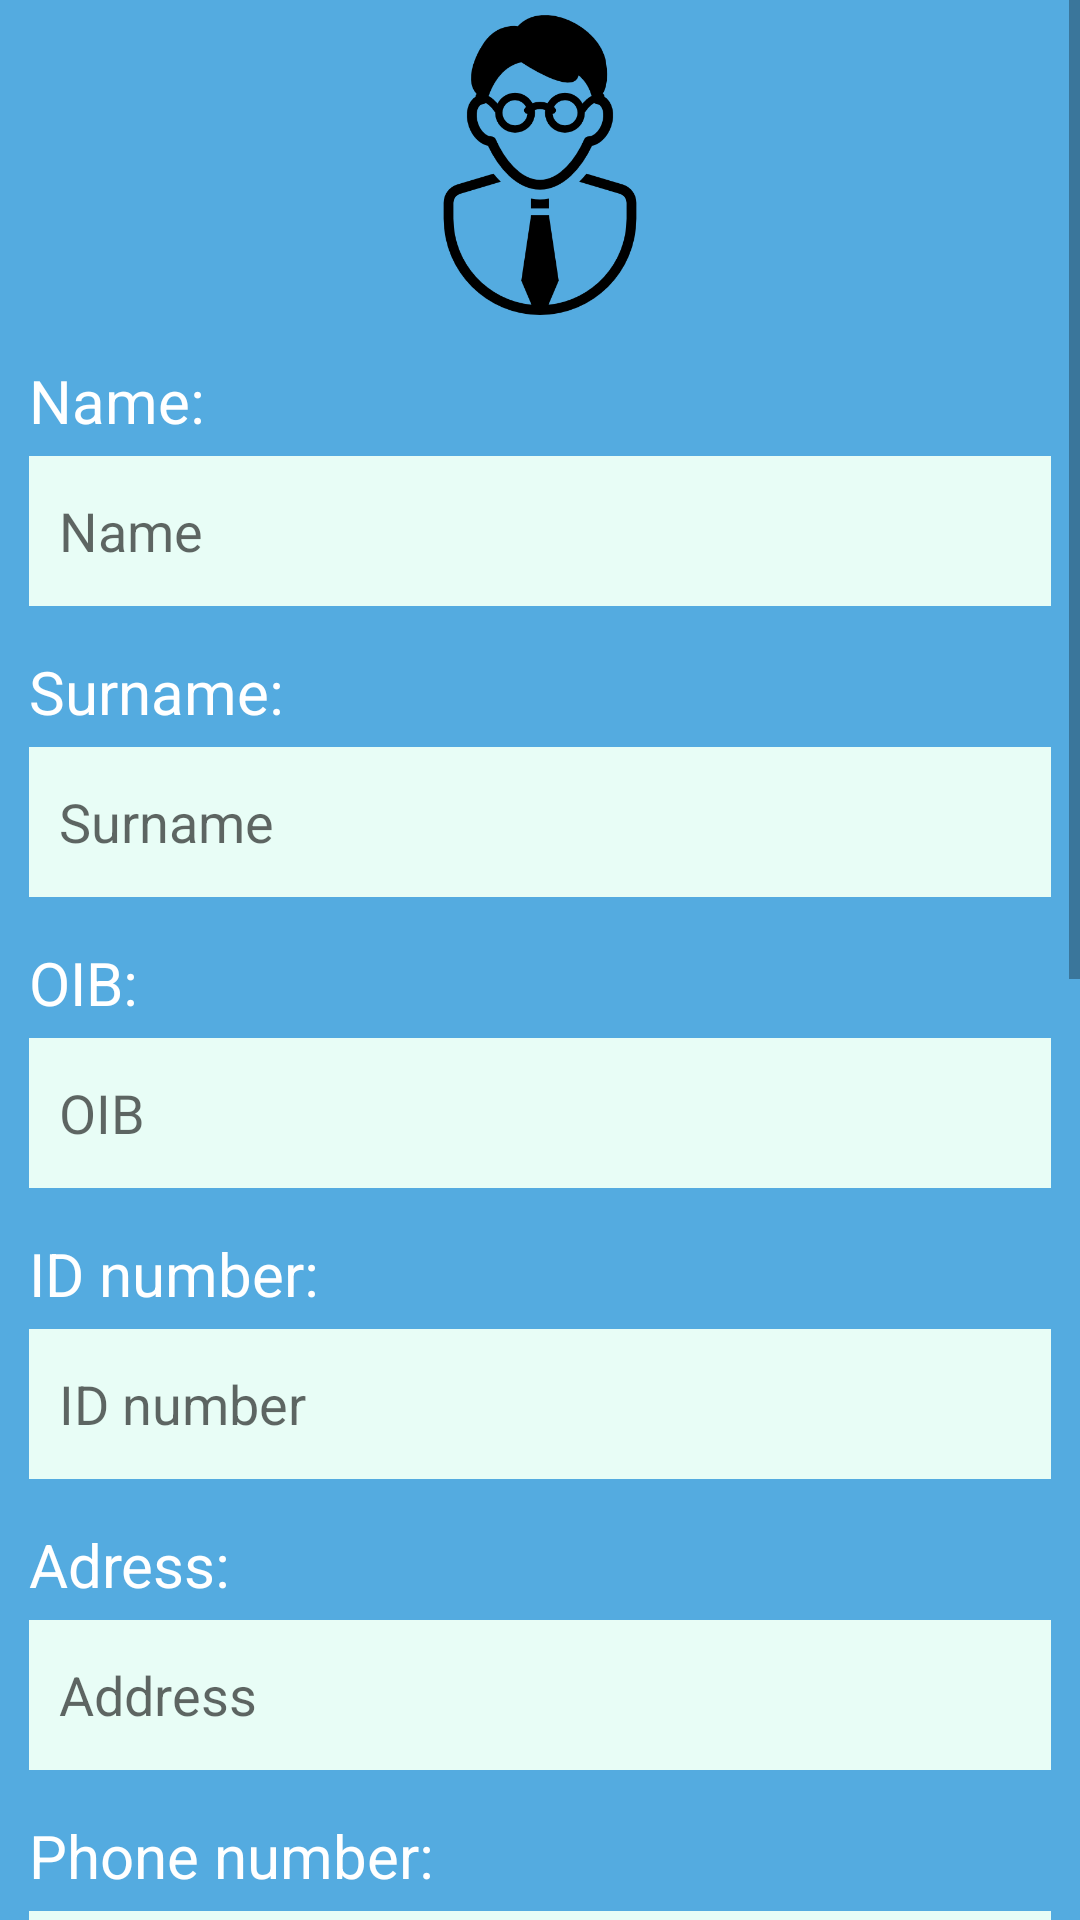

Where icons sit on this 1080*1920 app screen, as rect(x1, y1, x2, y2):
mojprofil: rect(443, 15, 637, 315)
